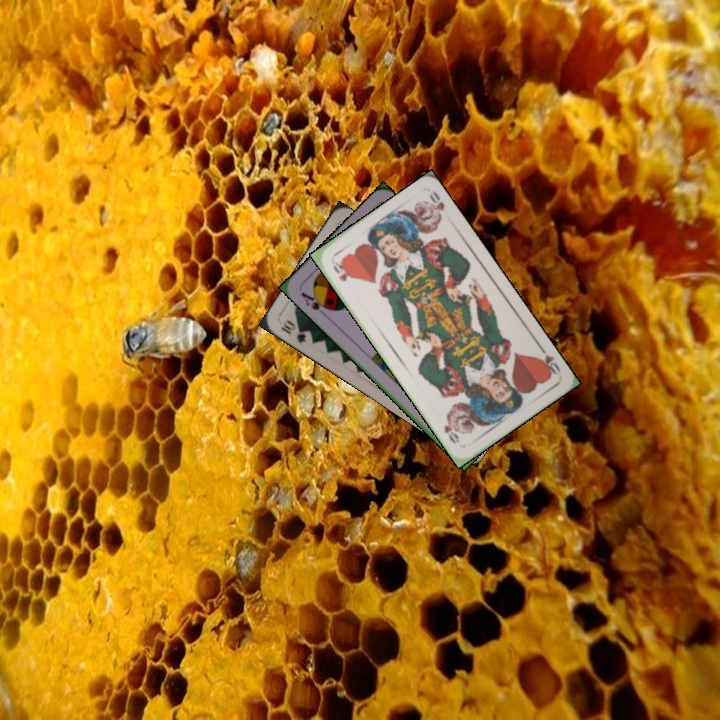G10: (277, 316, 309, 346)
HO: (533, 342, 563, 380), (328, 257, 354, 284)
SA: (297, 288, 333, 319)
